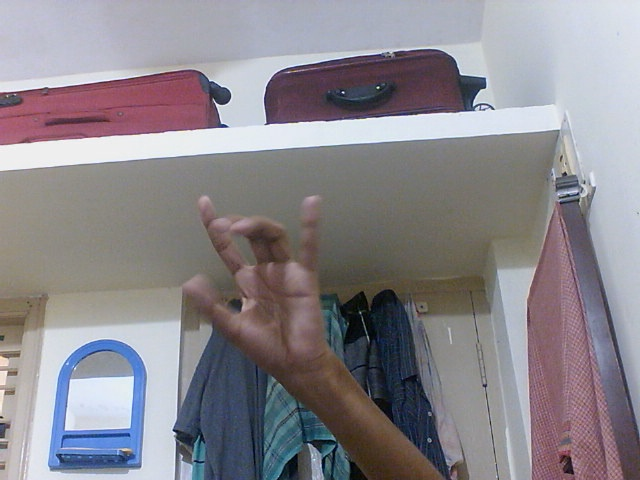hand: (180, 189, 341, 381)
